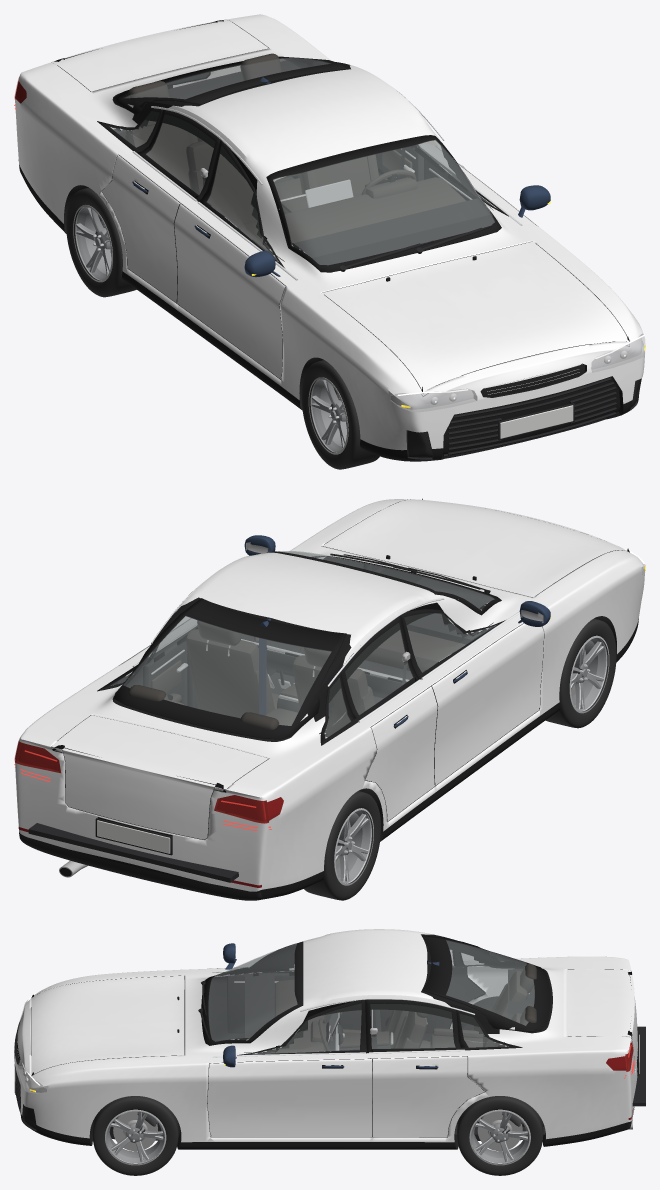
File: sedan.glb
3 views of the same model, one above another, from view 1: azimuth 30°, elevation 25°; view 2: azimuth 150°, elevation 25°; view 3: azimuth 270°, elevation 25° (orthographic). The views are drawn at different scales.
Visible parts, largest first — view 1: body, bonnet_body, interior, glass_windshield, door_FR_body, boot_body, door_RR_body, glass_rear, wheel_FR_mesh, wheel_RR_mesh, door_RR_glass_side_R, door_FR_glass_side_R (+9 smaller); view 2: body, glass_rear, bonnet_body, boot_body, interior, door_FR_body, door_RR_body, wheel_RR_mesh, wheel_FR_mesh, door_RR_glass_side_R, door_FR_glass_side_R, bays (+11 smaller); view 3: body, door_FL_body, bonnet_body, interior, glass_rear, glass_windshield, door_RL_body, wheel_FL_mesh, wheel_RL_mesh, boot_body, door_RL_glass_side_L, door_FL_glass_side_L (+10 smaller).
Part boxes in pixels (x1,y1,x2,y2): body: (15,14,644,461); bonnet_body: (322,241,629,396); interior: (111,60,494,265); glass_windshield: (266,135,501,272); door_FR_body: (174,201,285,379); boot_body: (52,19,268,91); door_RR_body: (101,155,181,303); glass_rear: (114,56,346,115); wheel_FR_mesh: (301,360,379,469); wheel_RR_mesh: (66,187,136,297); door_RR_glass_side_R: (136,109,217,197); door_FR_glass_side_R: (195,137,284,267); body: (15,498,644,900); glass_rear: (114,598,346,739); bonnet_body: (322,499,627,597); boot_body: (52,715,268,839); interior: (169,613,480,737); door_FR_body: (420,623,544,785); door_RR_body: (365,685,437,821); wheel_RR_mesh: (304,791,380,900); wheel_FR_mesh: (545,618,616,728); door_RR_glass_side_R: (336,617,416,721); door_FR_glass_side_R: (397,609,505,680); bays: (28,567,494,882); body: (14,929,637,1149); door_FL_body: (207,1053,372,1136); bonnet_body: (31,975,184,1075); interior: (245,969,545,1134); glass_rear: (422,935,550,1032); glass_windshield: (201,941,303,1045); door_RL_body: (370,1056,484,1137); wheel_FL_mesh: (92,1096,178,1175); wheel_RL_mesh: (457,1096,543,1175); boot_body: (567,969,637,1070); door_RL_glass_side_L: (370,999,468,1051); door_FL_glass_side_L: (237,999,372,1055).
Bounding box in the file's own units: 2.1 × 1.44 × 4.91.
